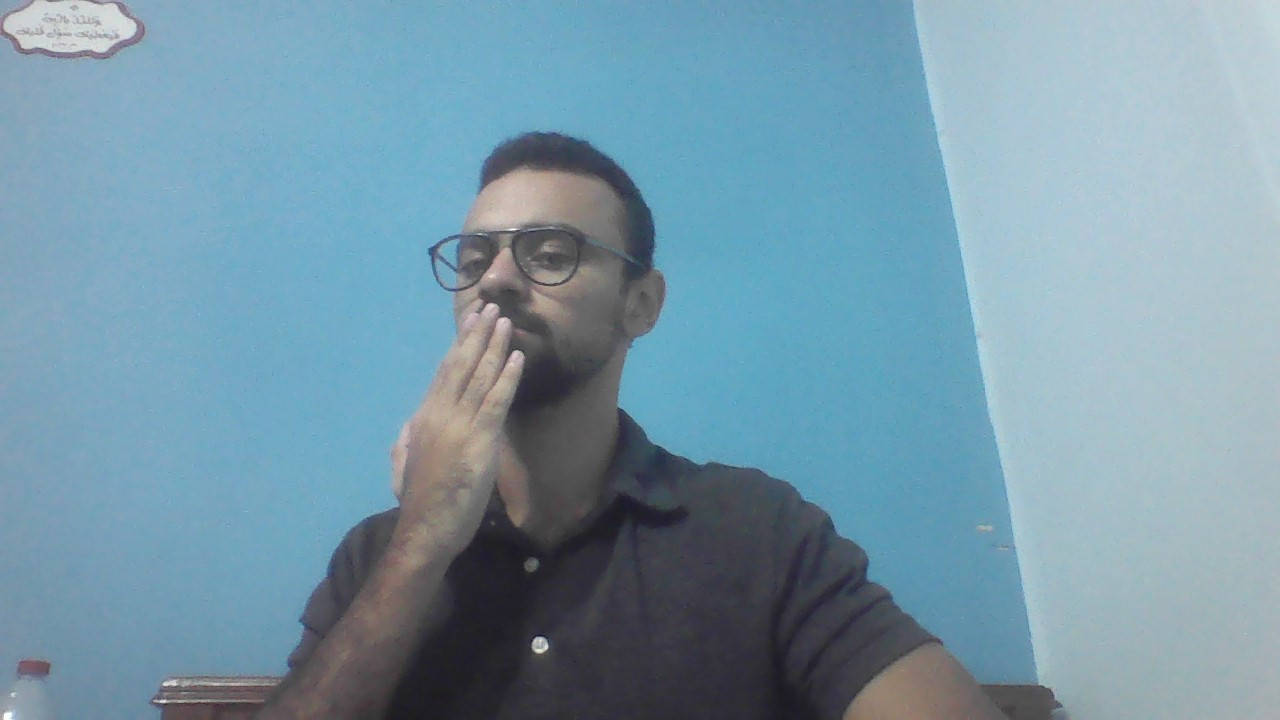thankyou: (389, 297, 529, 551)
